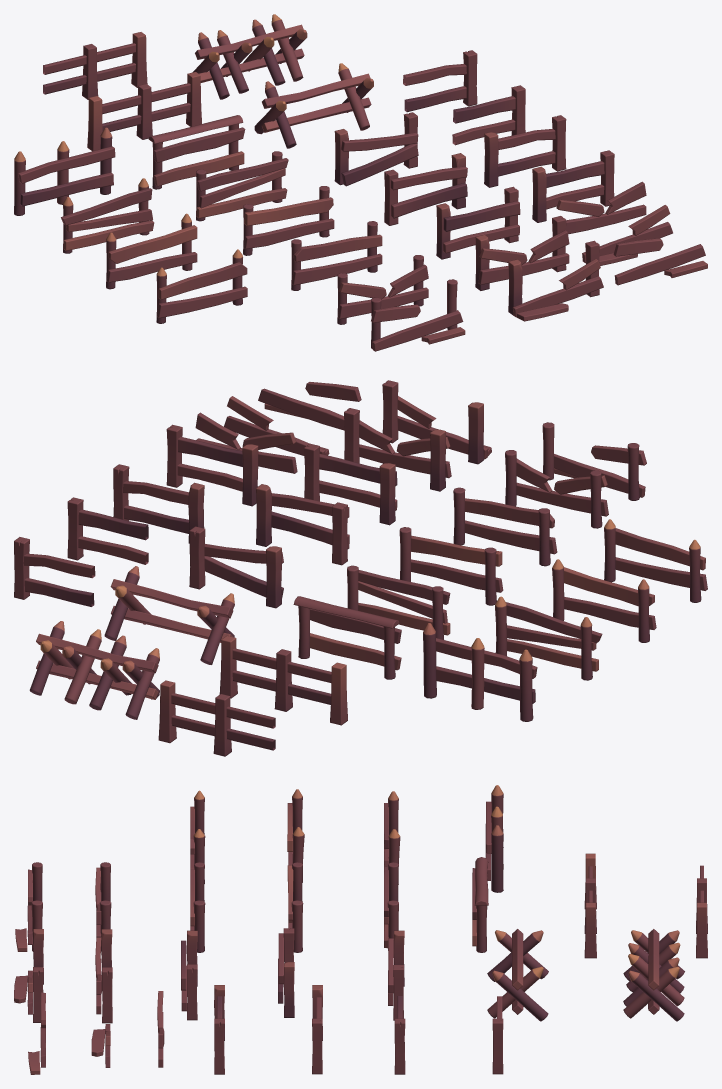
Rendered from Wooden_Fences_01.fbx.
3 views of the same model, one above another, from view 1: azimuth 30°, elevation 25°; view 2: azimuth 150°, elevation 25°; view 3: azimuth 270°, elevation 25° (orthographic). The views are drawn at different scales.
Visible parts, largest first — view 1: Fence.06.02, Fence.09.04, Fence.08, Fence.07.04, Fence.06.01, Fence.09.03, Fence.07.03, Fence.05.Damaged.02, Fence.08.Modular, Fence.09.02, Fence.09.01, Fence.05.Damaged.01 (+14 smaller); view 2: Fence.06.02, Fence.09.04, Fence.08, Fence.07.04, Fence.09.03, Fence.06.01, Fence.08.Modular, Fence.07.03, Fence.05.Damaged.01, Fence.09.01, Fence.09.02, Fence.05.03 (+14 smaller); view 3: Fence.06.02, Fence.06.01, Fence.09.04, Fence.05.Damaged.02, Fence.05.Damaged.01, Fence.07.04, Fence.05.01, Fence.05.02, Fence.07.Damaged.02, Fence.05.03, Fence.08, Fence.07.02 (+14 smaller).
Boxes of the visible parts, <box> form: Fence.06.02: <box>192,14,307,99</box>; Fence.09.04: <box>14,127,115,215</box>; Fence.08: <box>87,71,201,151</box>; Fence.07.04: <box>148,115,245,189</box>; Fence.06.01: <box>254,63,373,148</box>; Fence.09.03: <box>61,178,154,253</box>; Fence.07.03: <box>196,151,288,221</box>; Fence.05.Damaged.02: <box>508,240,603,321</box>; Fence.08.Modular: <box>43,32,147,99</box>; Fence.09.02: <box>106,213,197,289</box>; Fence.09.01: <box>156,249,247,323</box>; Fence.05.Damaged.01: <box>475,216,569,290</box>; Fence.06.02: <box>29,621,159,719</box>; Fence.09.04: <box>423,623,537,721</box>; Fence.08: <box>219,635,347,725</box>; Fence.07.04: <box>293,596,401,679</box>; Fence.09.03: <box>495,596,602,680</box>; Fence.06.01: <box>104,566,234,664</box>; Fence.08.Modular: <box>158,680,275,756</box>; Fence.07.03: <box>347,565,450,639</box>; Fence.05.Damaged.01: <box>344,408,451,491</box>; Fence.09.01: <box>604,519,707,602</box>; Fence.09.02: <box>552,559,656,642</box>; Fence.05.03: <box>189,526,283,608</box>; Fence.06.02: <box>623,929,684,1021</box>; Fence.06.01: <box>487,929,548,1021</box>; Fence.09.04: <box>485,785,503,892</box>; Fence.05.Damaged.02: <box>14,929,43,1022</box>; Fence.05.Damaged.01: <box>95,929,112,1023</box>; Fence.07.04: <box>472,857,488,952</box>; Fence.05.01: <box>181,930,197,1020</box>; Fence.05.02: <box>278,928,294,1017</box>; Fence.07.Damaged.02: <box>15,862,42,951</box>; Fence.05.03: <box>388,930,404,1020</box>; Fence.08: <box>584,853,596,958</box>; Fence.07.02: <box>287,862,303,952</box>.
Bounding box in the file's own units: 2443 × 317 × 3034.
